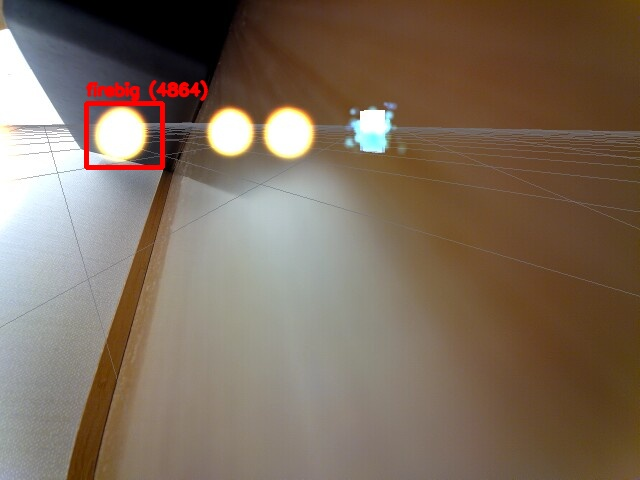firebig: (86, 103, 162, 167)
